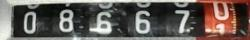digits: (209, 0, 231, 37), (91, 11, 115, 34), (174, 9, 193, 33), (58, 8, 74, 32), (134, 10, 150, 33), (23, 11, 36, 33)
